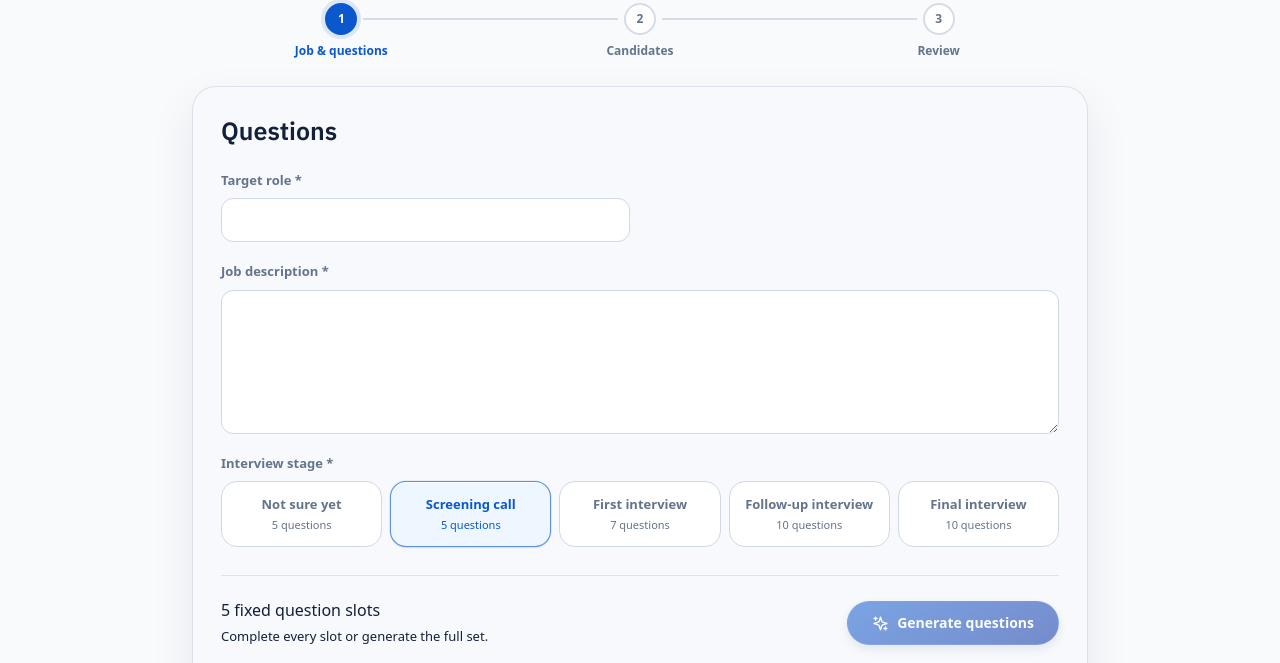
Scenario: RecruiterInvitationCreateExperience › locks a generated set and Start over clears and unlocks every slot
Type "Quality Inspector" into the field labelled "Target role *" at (426, 220), box top-left (221, 198), bottom-right (630, 242)
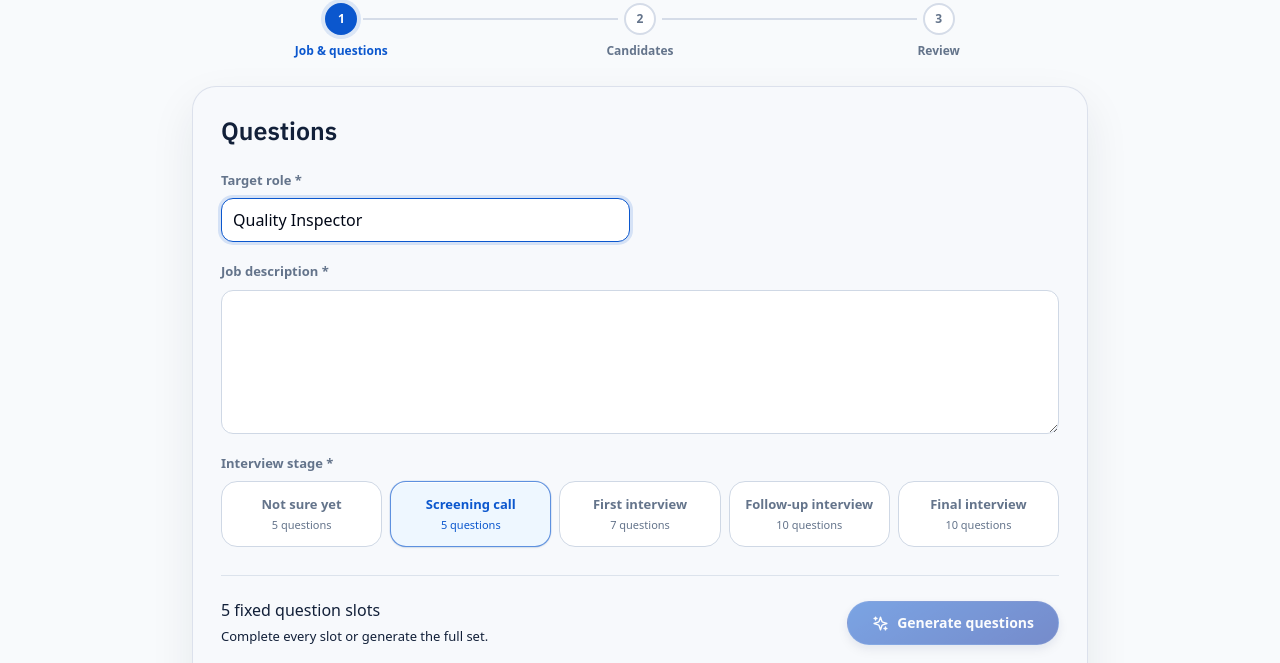
Type "Inspect finished goods." into the text box labelled "Job description *" at (640, 362), box top-left (221, 290), bottom-right (1059, 434)
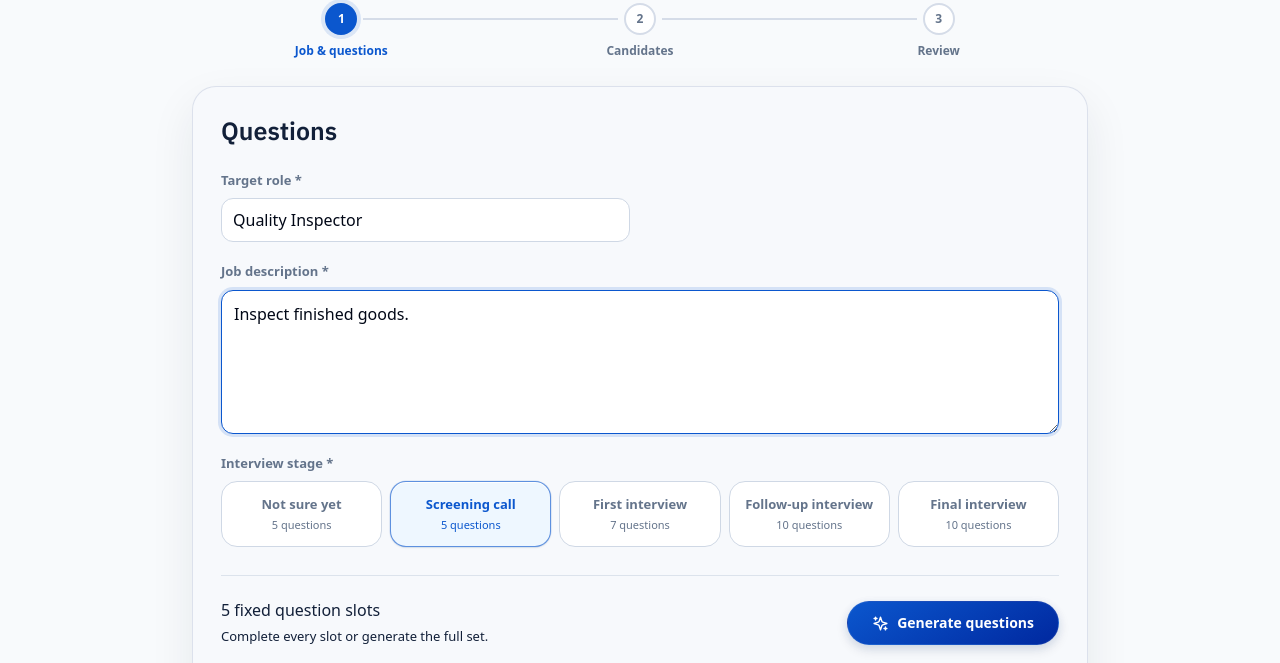
Click the button "Generate questions" at (953, 623), box top-left (847, 601), bottom-right (1059, 645)
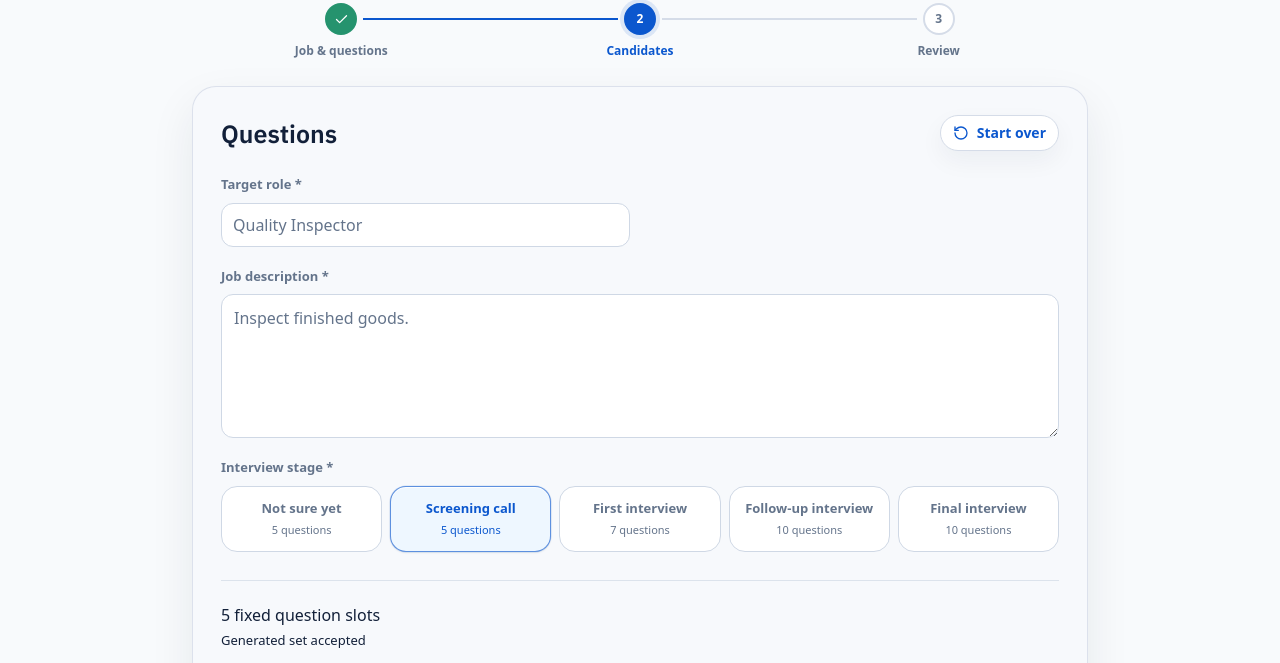
Expected: the text "Generated set accepted" is shown, top-left (221, 632), bottom-right (380, 651)
Click the button "Start over" at (999, 133), box top-left (940, 115), bottom-right (1059, 151)
(page scrolled)
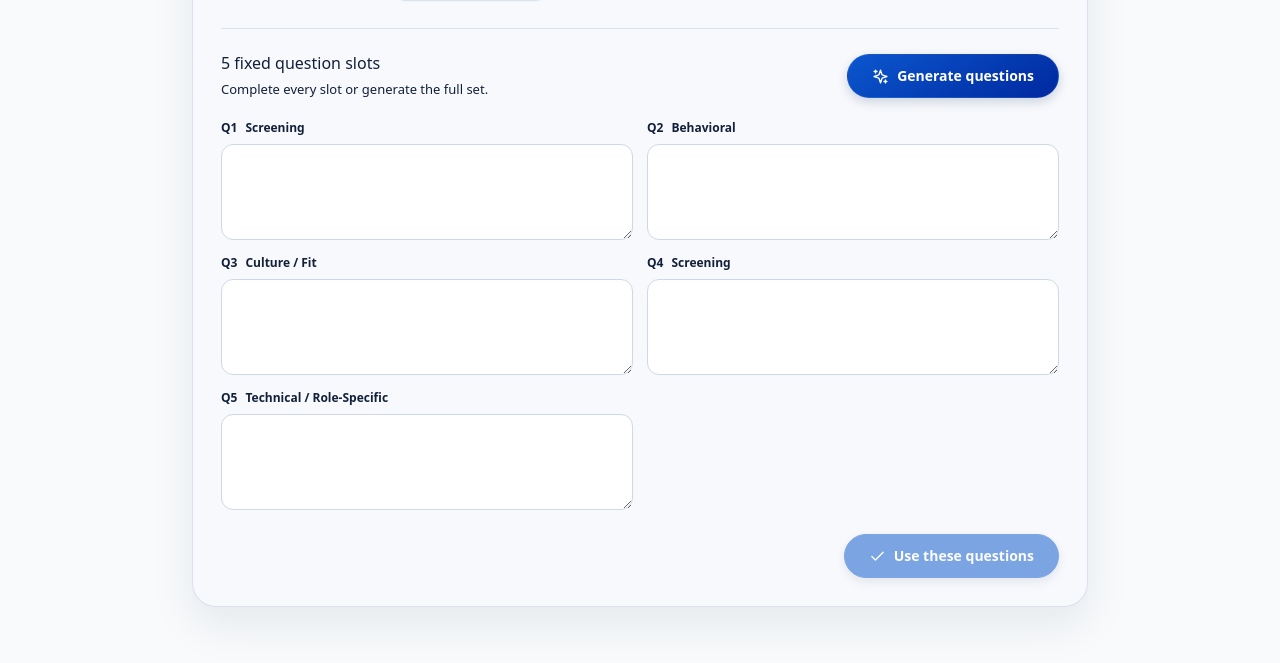
Expected: the button "Generate questions" is enabled, top-left (847, 54), bottom-right (1059, 98)
Expected: the text box labelled "Q1 Screening" is empty, top-left (221, 144), bottom-right (633, 240)
Expected: the text box labelled "Q2 Behavioral" is empty, top-left (647, 144), bottom-right (1059, 240)
